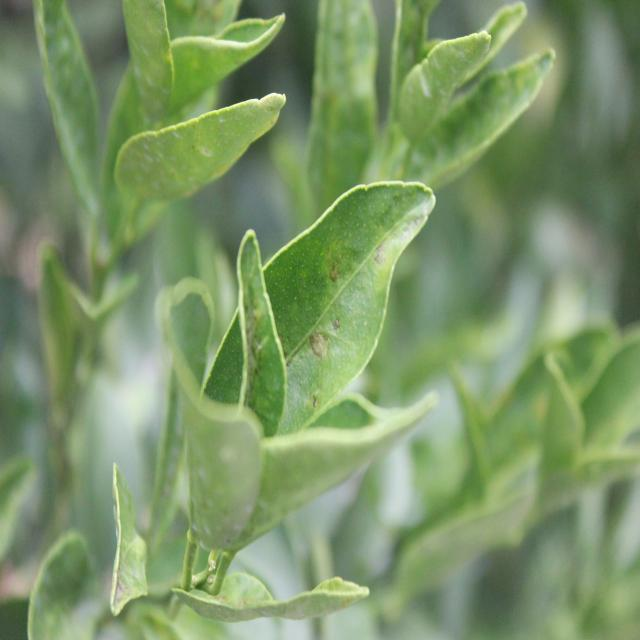canker: (291, 206, 403, 401), (241, 282, 277, 427)
